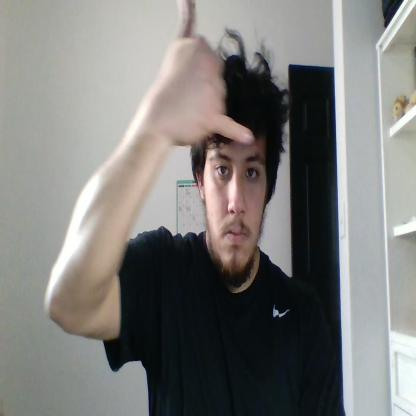Y: (160, 0, 255, 148)
